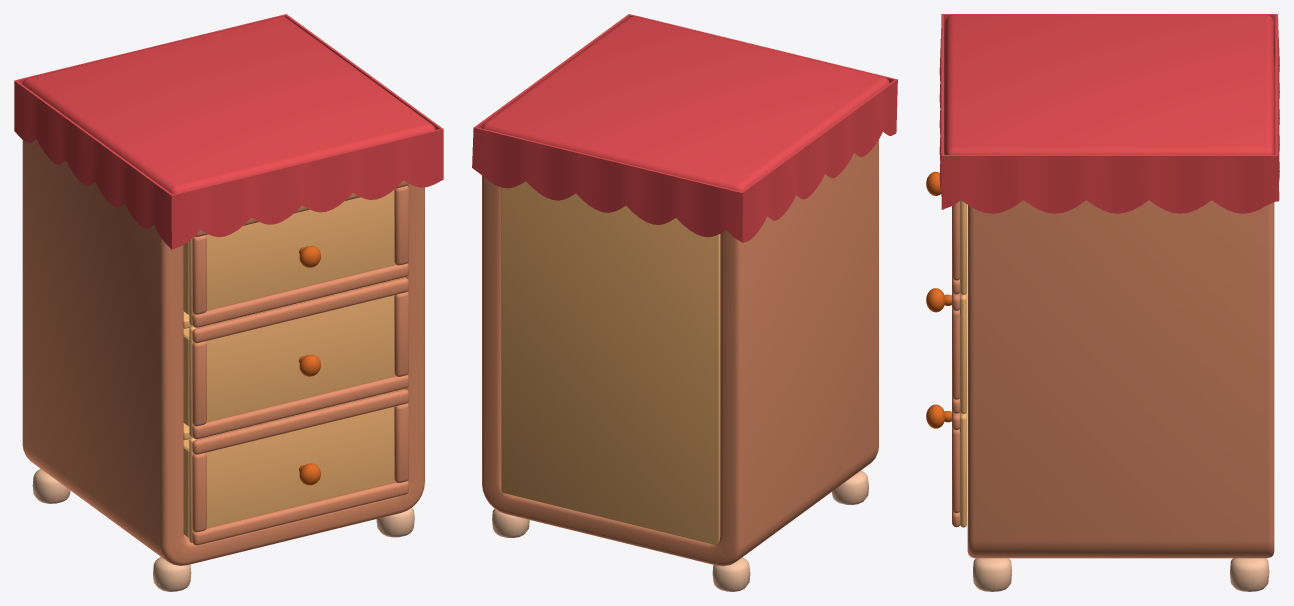
File: gaveteiro_cozinha_largo_3gavetas_campestre.glb
3 renders of one model, left to right at view 1: azimuth 30°, elevation 25°; view 2: azimuth 150°, elevation 25°; view 3: azimuth 270°, elevation 25°, orthographic. The views are drawn at different scales.
Visible parts, largest first — view 1: gaveteiro_cozinha_largo_3gavetas_campestre, gaveta_2, gaveta_3, gaveta_1; view 2: gaveteiro_cozinha_largo_3gavetas_campestre; view 3: gaveteiro_cozinha_largo_3gavetas_campestre, gaveta_2, gaveta_3, gaveta_1.
Part boxes in pixels (box(x1,y1,x2,y2)): gaveteiro_cozinha_largo_3gavetas_campestre: box(14, 14, 443, 591); gaveta_2: box(183, 277, 408, 439); gaveta_3: box(183, 389, 408, 545); gaveta_1: box(183, 180, 408, 327); gaveteiro_cozinha_largo_3gavetas_campestre: box(472, 14, 897, 591); gaveteiro_cozinha_largo_3gavetas_campestre: box(939, 14, 1279, 591); gaveta_2: box(926, 288, 966, 413); gaveta_3: box(926, 404, 966, 527); gaveta_1: box(926, 171, 966, 294).
Size of the model in its own units: 0.618 by 0.9 by 0.6436.
1 material, 1 textured.
